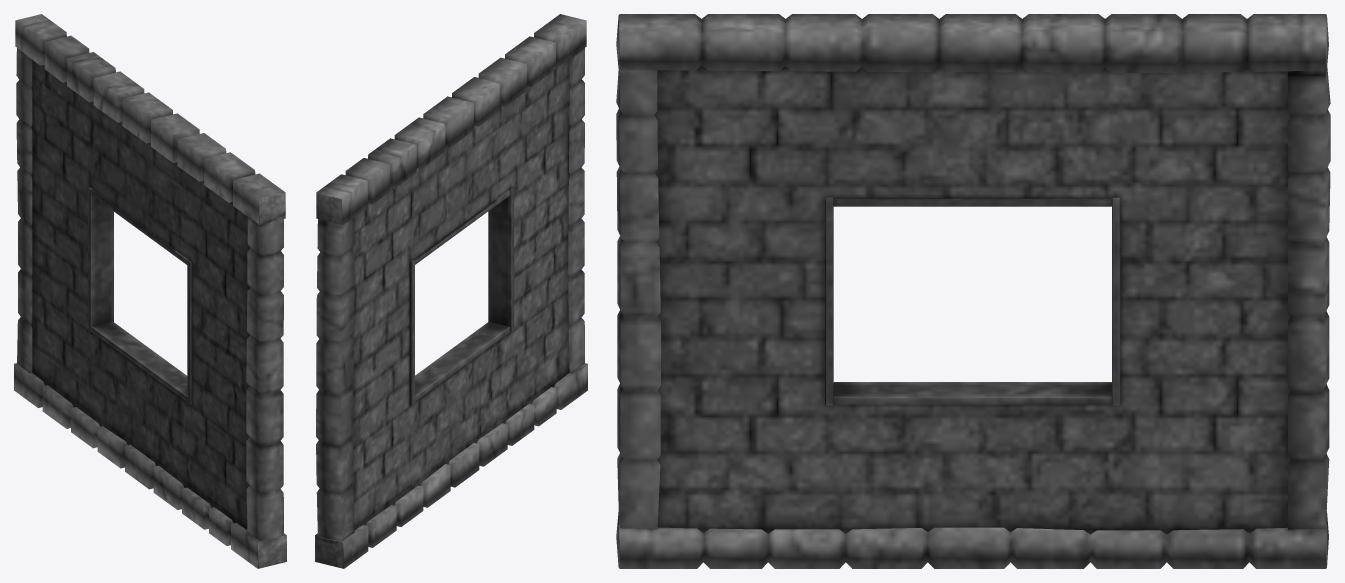
The model's file is SM_WallWindow_Stone_e1274d.glb.
3 views of the same model, side by side, from view 1: azimuth 30°, elevation 25°; view 2: azimuth 150°, elevation 25°; view 3: azimuth 270°, elevation 25° (orthographic). The views are drawn at different scales.
Size of the model in its own units: 0.2742 by 3.33 by 4.03.
1 material, 1 textured.
